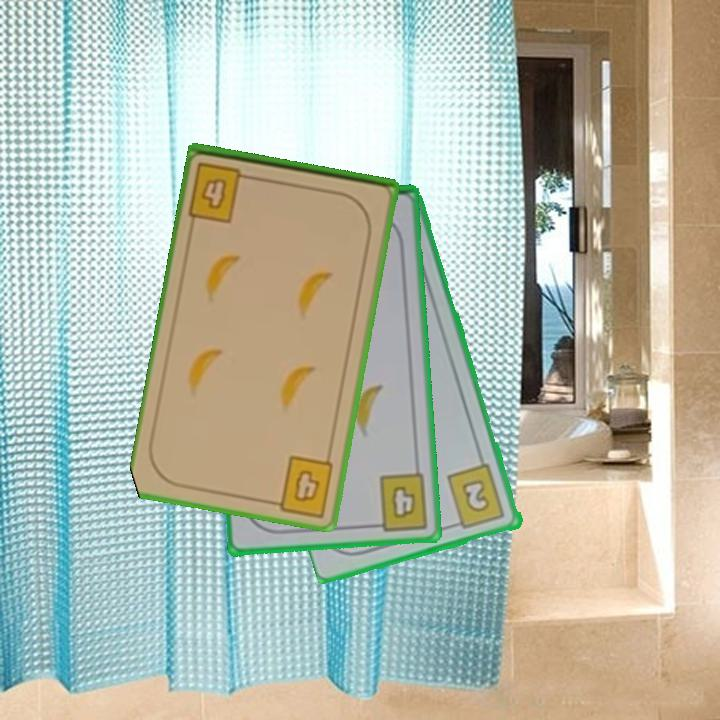2b: (444, 461, 508, 532)
4b: (185, 158, 258, 225), (266, 451, 337, 519), (367, 470, 432, 534)
